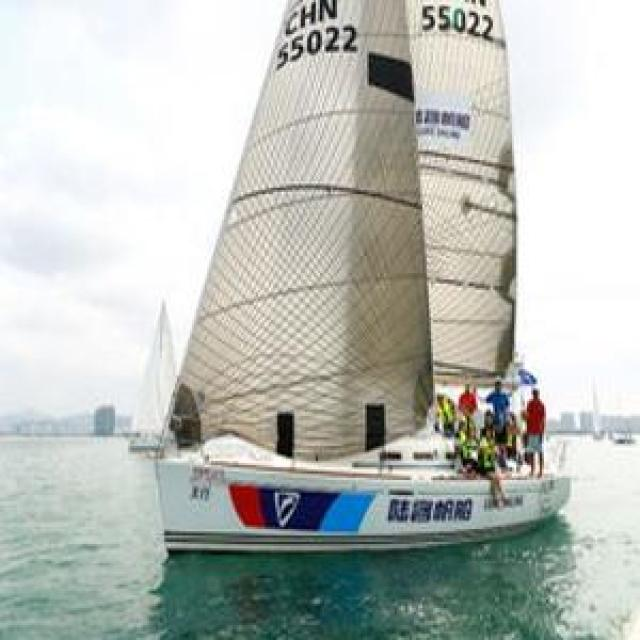sailboat: (142, 7, 585, 549)
